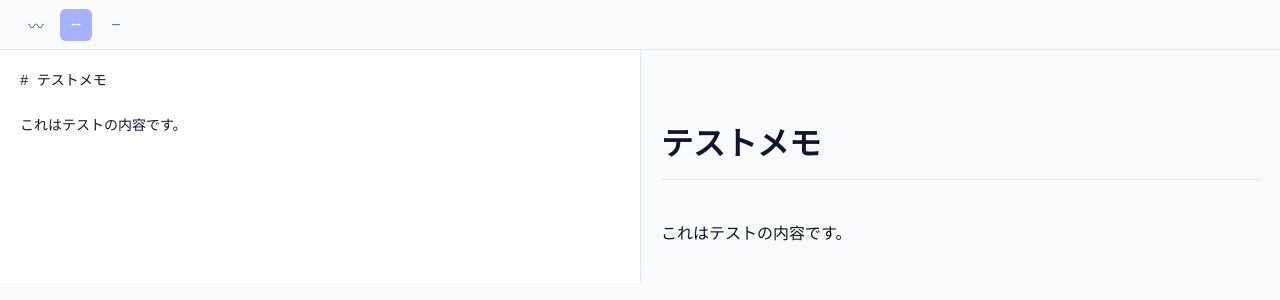
Test: MemoEditor - 追加機能テスト › editモードでは編集エリアのみ表示される
// Editモードに切り替え
Click the button titled "Edit". click: (36, 24)
box: [20,8,52,40]
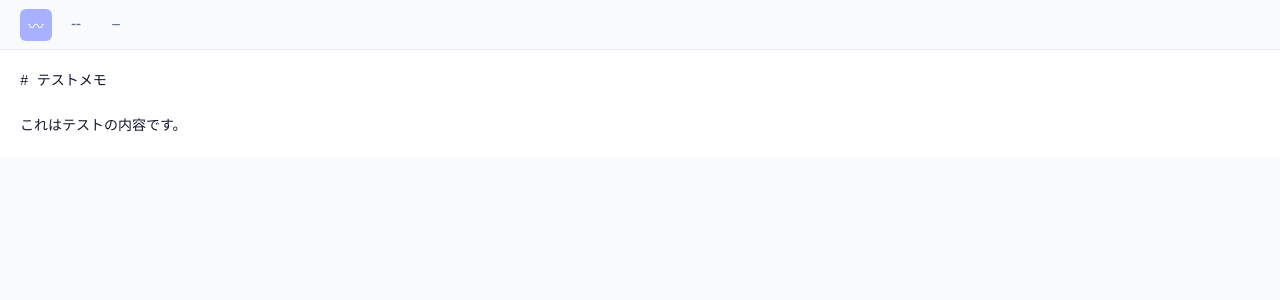
Expected: the element with class "full-width" is shown, [0,50,1279,157]
